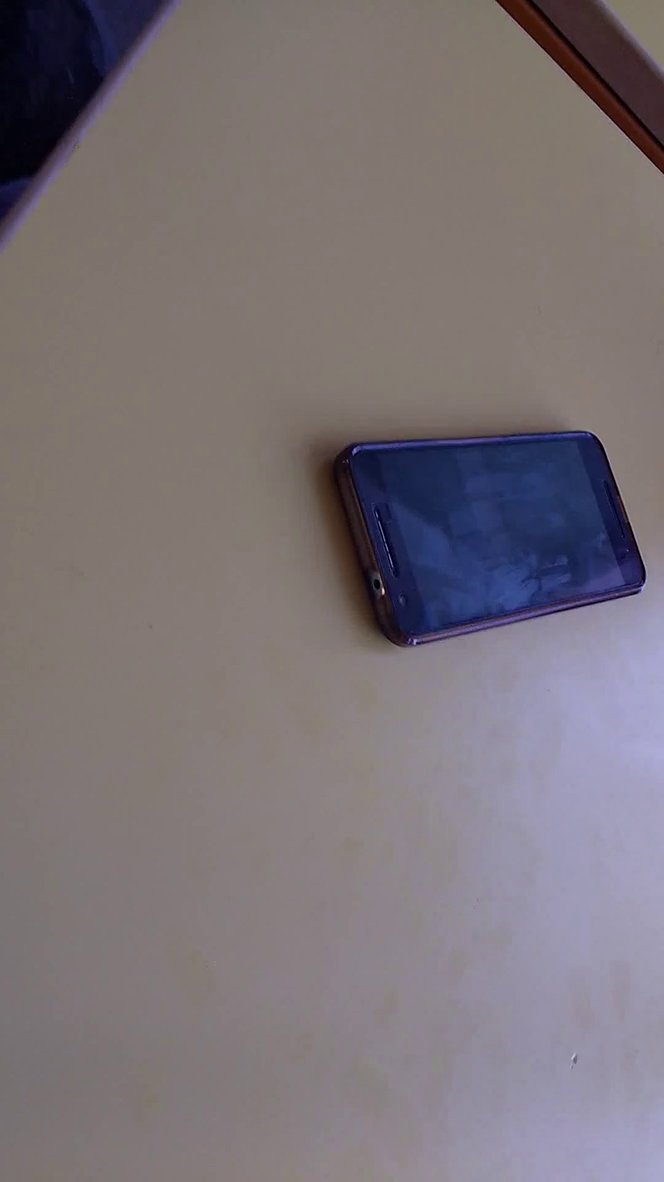phone: (321, 416, 660, 659)
